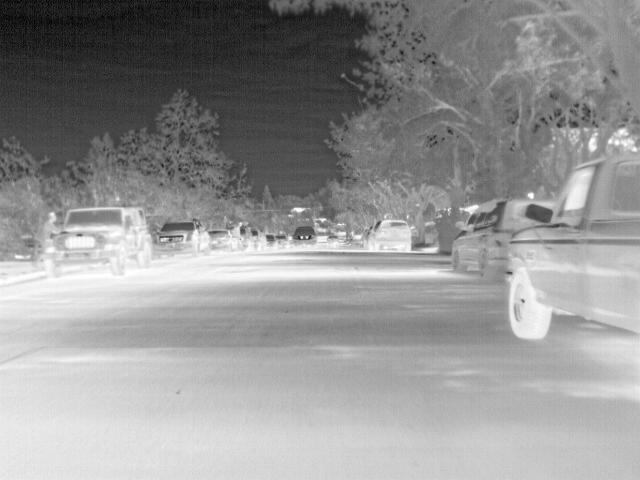car: (506, 154, 639, 340), (451, 197, 560, 282), (57, 206, 153, 278), (154, 222, 208, 259), (370, 219, 413, 253), (208, 228, 242, 251), (290, 226, 316, 247), (362, 225, 374, 250), (252, 229, 265, 248), (266, 233, 280, 249), (325, 234, 339, 246), (277, 234, 289, 248)
person: (42, 212, 58, 274)
